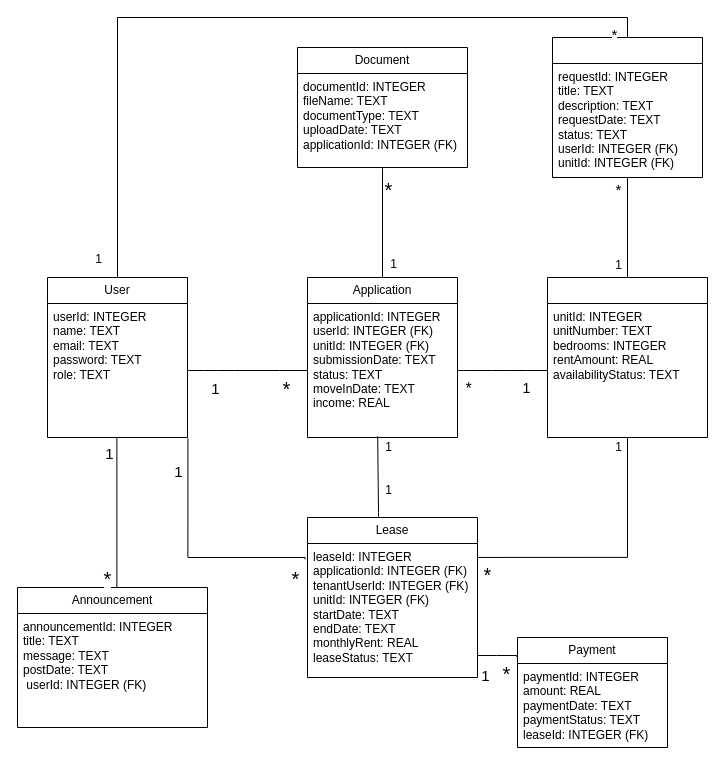
The diagram is 725 pixels wide and 768 high, and some of its shapes have lost their labels. Each missing label, with the box of its shape:
ApartmentUnit: (546, 276, 708, 438)
MaintenanceRequest: (552, 36, 702, 178)
